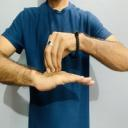hand: (43, 31, 80, 73), (33, 69, 95, 91)
